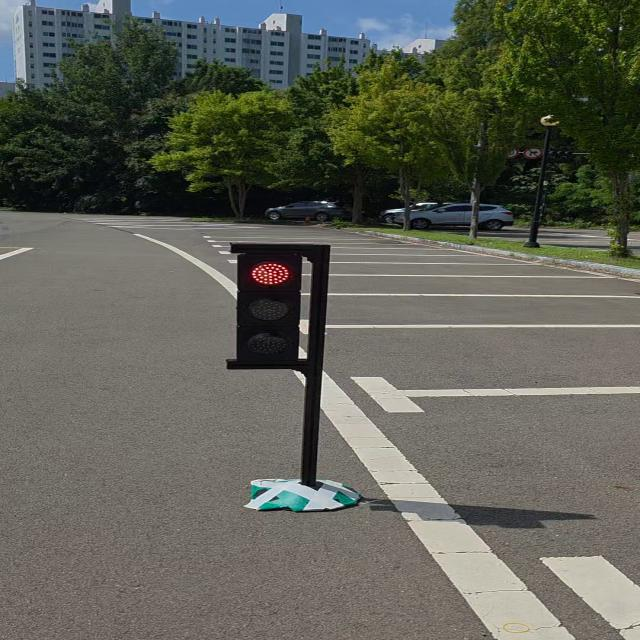red: (227, 244, 314, 377)
